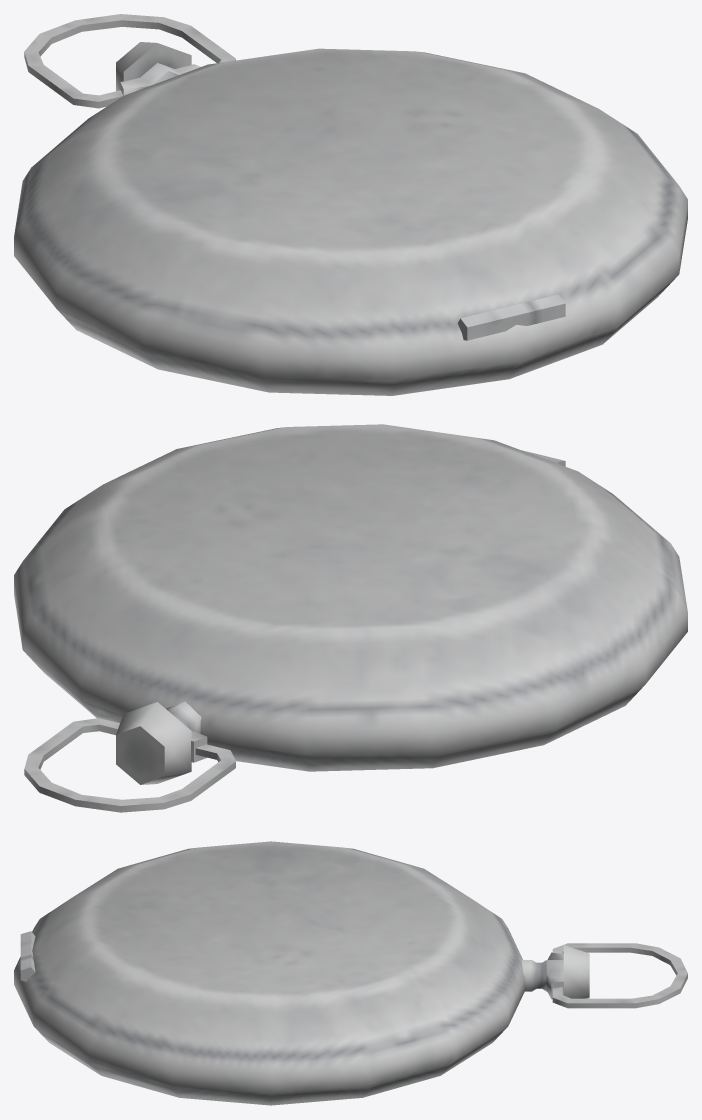
The model's file is SM_Souvenirs01B.FBX.
3 views of the same model, one above another, from view 1: azimuth 30°, elevation 25°; view 2: azimuth 150°, elevation 25°; view 3: azimuth 270°, elevation 25° (orthographic). The views are drawn at different scales.
Parts seen in each view (by area): view 1: SM_Souvenirs01B_LOD0; view 2: SM_Souvenirs01B_LOD0; view 3: SM_Souvenirs01B_LOD0.
Boxes of the visible parts, <box> form: SM_Souvenirs01B_LOD0: <box>14,14,687,395</box>; SM_Souvenirs01B_LOD0: <box>14,424,687,812</box>; SM_Souvenirs01B_LOD0: <box>14,841,687,1105</box>.
Size of the model in its own units: 7.6 by 9.96 by 1.41.
